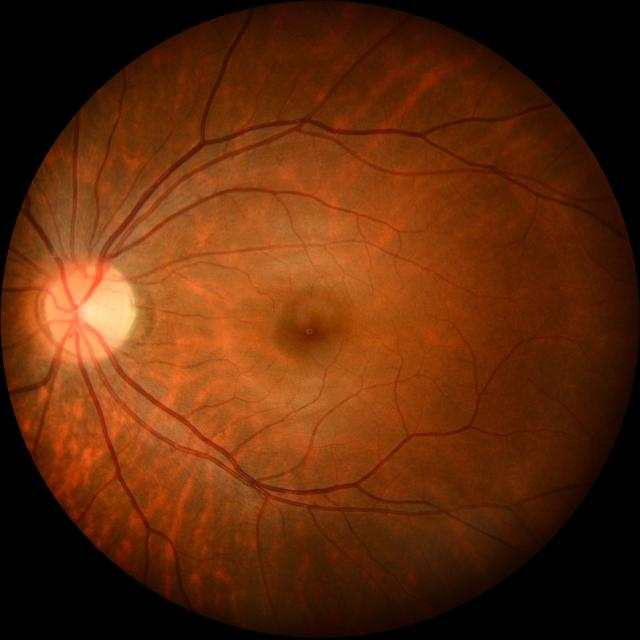OC: (78, 289, 112, 334)
OD: (45, 259, 132, 359)
